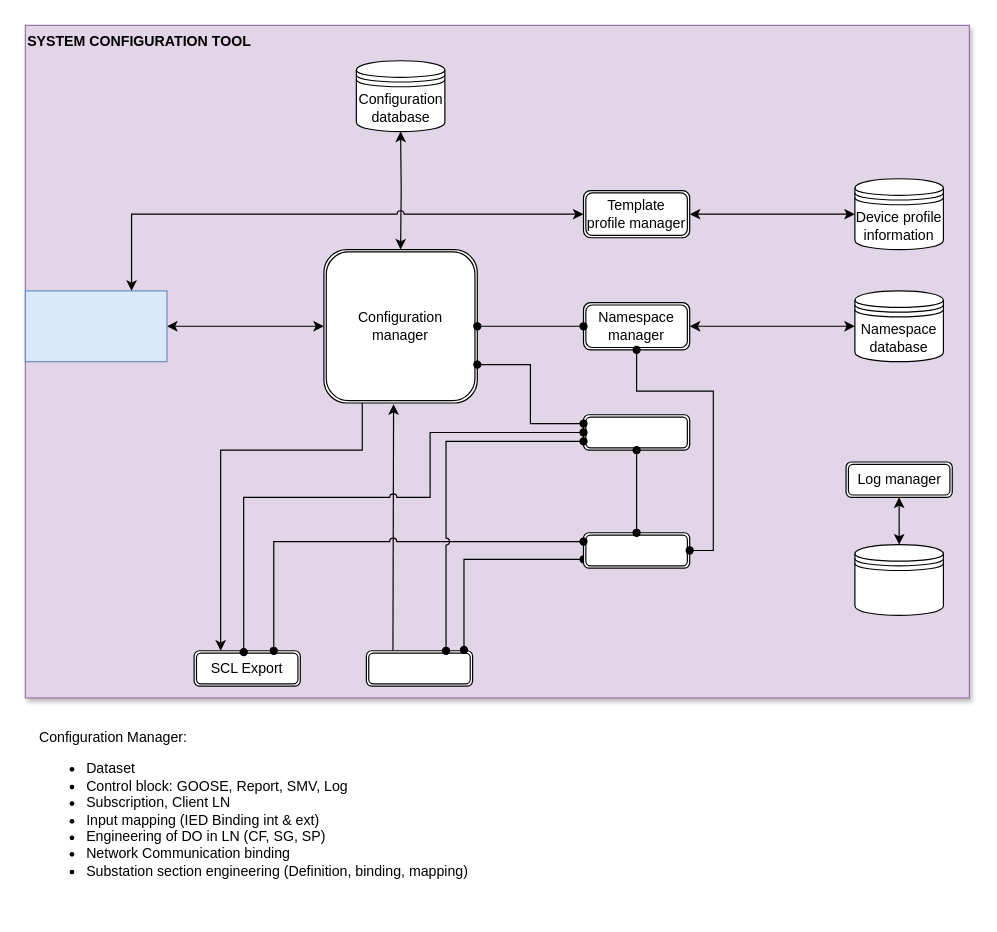
The diagram is 997 pixels wide and 932 high, and some of its shapes have lost their labels. Here are the shapes that lost their labels. From the top down, the centre of each, then its label:
At (x=95, y=326): "UI for confuration manager".
At (x=636, y=432): "Rules manager".
At (x=636, y=550): "SCL Analizer".
At (x=898, y=579): "Internal log database".
At (x=419, y=668): "SCL Import".
